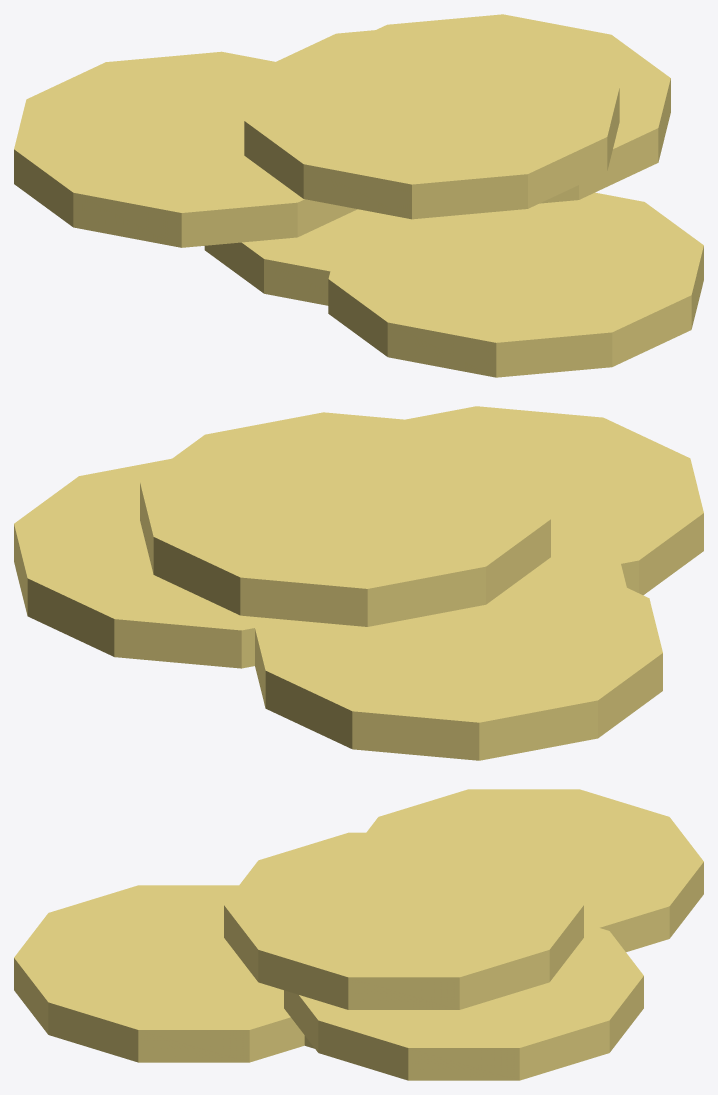
File: sm_coins.glb
3 renders of one model, top to bottom at view 1: azimuth 30°, elevation 25°; view 2: azimuth 150°, elevation 25°; view 3: azimuth 270°, elevation 25°, orthographic. The views are drawn at different scales.
Parts seen in each view (by area): view 1: sm_coins; view 2: sm_coins; view 3: sm_coins.
Boxes of the visible parts, box(x1,y1,x2,y2) form: sm_coins: box(14, 14, 703, 377); sm_coins: box(14, 406, 703, 760); sm_coins: box(14, 789, 703, 1080).
Size of the model in its own units: 0.2041 by 0.036 by 0.23.
